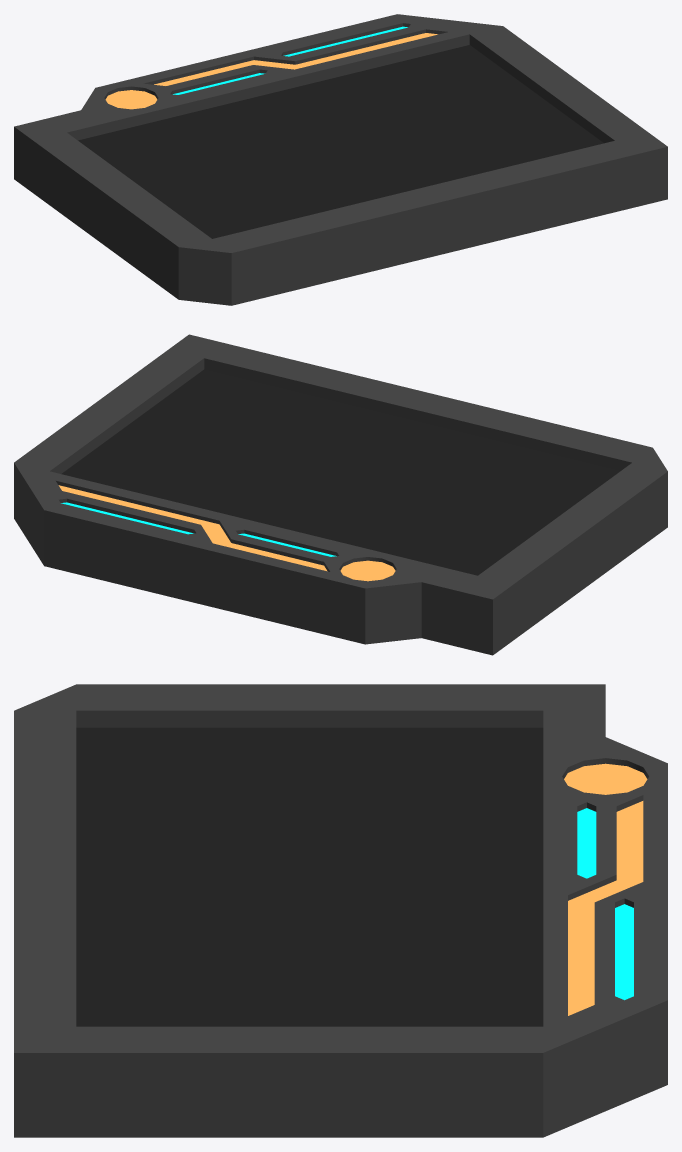
Rendered from TVLarge (1).fbx.
3 renders of one model, top to bottom at view 1: azimuth 30°, elevation 25°; view 2: azimuth 150°, elevation 25°; view 3: azimuth 270°, elevation 25°, orthographic. The views are drawn at different scales.
Parts seen in each view (by area): view 1: TVLarge; view 2: TVLarge; view 3: TVLarge.
Part boxes in pixels (x1,y1,x2,y2): TVLarge: (14,14,667,305); TVLarge: (14,334,667,655); TVLarge: (14,684,667,1137).
Bounding box in the file's own units: 700 × 75 × 525.
